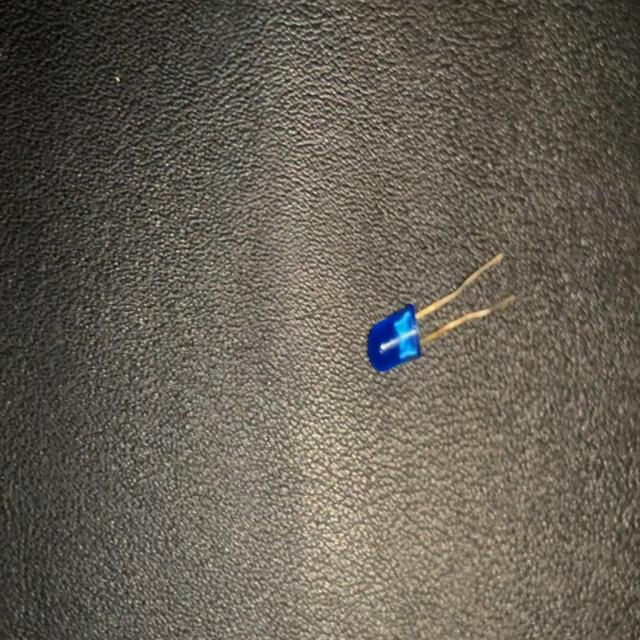LED: (367, 249, 514, 374)
